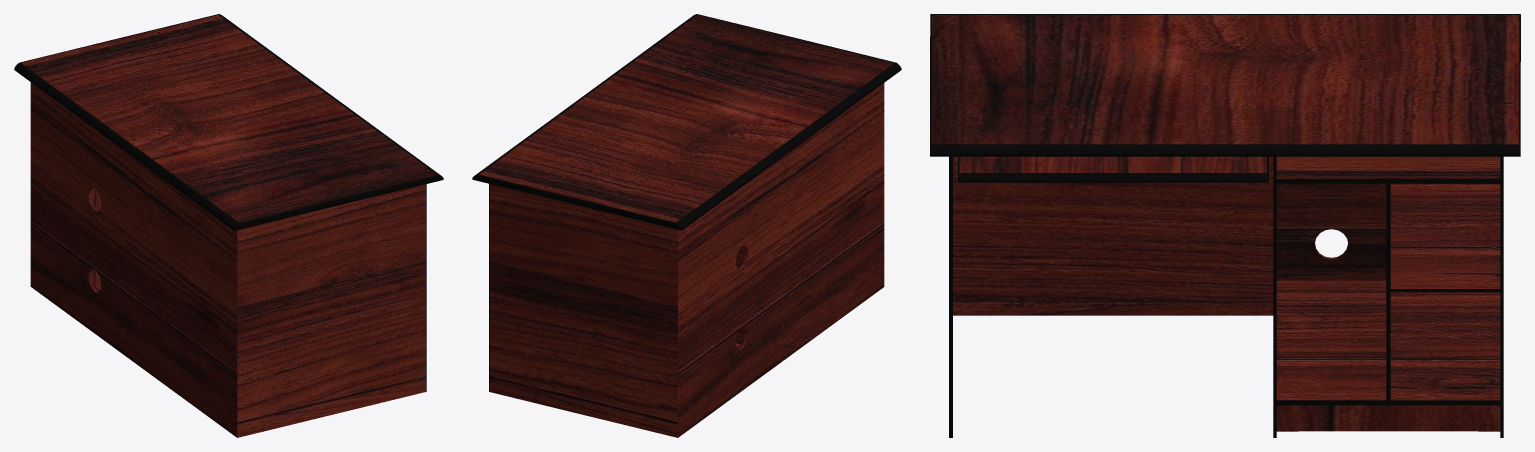
File: computer_desk_v1 (1).glb
3 views of the same model, side by side, from view 1: azimuth 30°, elevation 25°; view 2: azimuth 150°, elevation 25°; view 3: azimuth 270°, elevation 25° (orthographic). The views are drawn at different scales.
Visible parts, largest first — view 1: com table 1, com table 2; view 2: com table 1, com table 2; view 3: com table 1, com table 2, com table 3, com table 4.
Boxes of the visible parts, x1,y1,x2,y2 form: com table 1: [21, 15, 436, 437]; com table 2: [14, 14, 443, 230]; com table 1: [479, 14, 894, 437]; com table 2: [472, 14, 901, 230]; com table 1: [931, 15, 1519, 431]; com table 2: [930, 14, 1520, 156]; com table 3: [958, 156, 1268, 182]; com table 4: [949, 156, 1503, 437].
Bounding box in the file's own units: 2.11 × 2.12 × 3.84.
2 materials, 1 textured.
